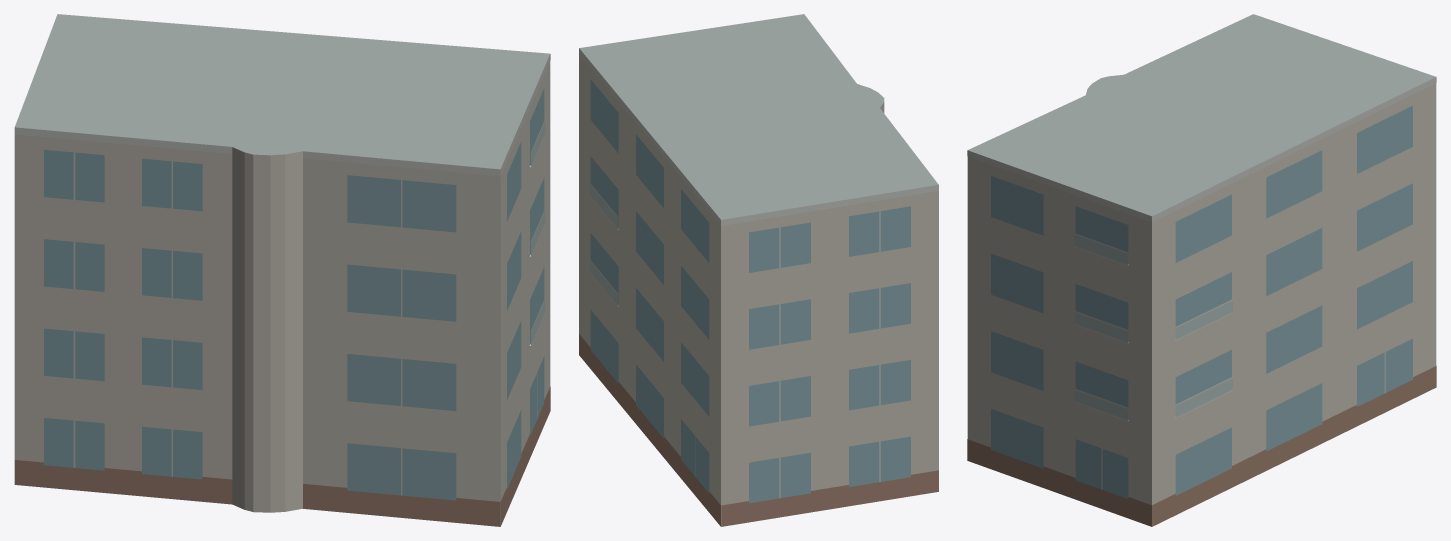
The model's file is survey-upis-32706278.glb.
3 views of the same model, side by side, from view 1: azimuth 30°, elevation 25°; view 2: azimuth 150°, elevation 25°; view 3: azimuth 270°, elevation 25° (orthographic). The views are drawn at different scales.
Visible parts, largest first — view 1: survey-upis-32706278.tmp; view 2: survey-upis-32706278.tmp; view 3: survey-upis-32706278.tmp.
Boxes of the visible parts, <box> form: survey-upis-32706278.tmp: <box>14,14,550,526</box>; survey-upis-32706278.tmp: <box>579,14,938,526</box>; survey-upis-32706278.tmp: <box>967,14,1436,526</box>.
Size of the model in its own units: 17.33 by 12.4 by 16.98.
